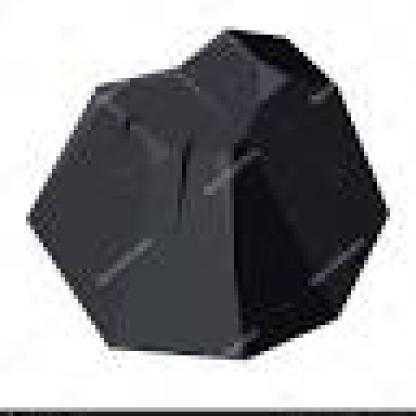Sedimentary_coal: (17, 21, 390, 360)
